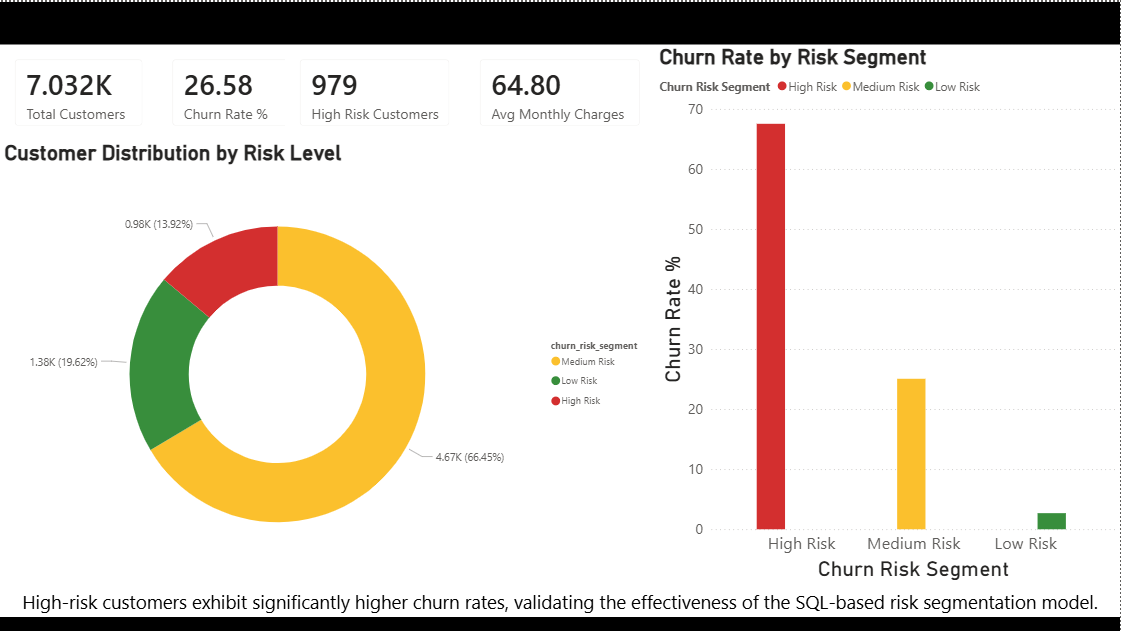

This screenshot's page, from the dashboard's own definition file:
{"tool":"powerbi","page":{"name":"Overview","canvas":[1280,720],"ordinal":0},"visuals":[{"type":"cardVisual","fields":{"Data":["Count(churn_risk_model.customerID)"]},"box":[0,48.6,180,110],"z":0},{"type":"cardVisual","fields":{"Data":["churn_risk_model.Churn Rate %"]},"box":[180,48.6,178.6,110],"z":1000},{"type":"cardVisual","fields":{"Data":["churn_risk_model.High Risk Customers"]},"box":[325.7,48.6,205.7,110],"z":2000},{"type":"cardVisual","fields":{"Data":["churn_risk_model.Avg Monthly Charges"]},"box":[531.4,48.6,217.1,110],"z":3000},{"type":"clusteredColumnChart","title":"Churn Rate by Risk Segment","fields":{"Category":["churn_risk_model.churn_risk_segment"],"Y":["churn_risk_model.Churn Rate %"],"Series":["churn_risk_model.churn_risk_segment"]},"box":[748.6,48.6,531.4,617.1],"z":4000},{"type":"donutChart","title":"Customer Distribution by Risk Level","fields":{"Category":["churn_risk_model.churn_risk_segment"],"Y":["CountNonNull(churn_risk_model.customerID)"]},"box":[0,158.6,748.6,507.1],"z":5000},{"type":"textbox","box":[0,665.7,1280,54.3],"z":6000},{"type":"shape","box":[0,0,1280,48.6],"z":7000},{"type":"shape","box":[0,702.9,1280,17.1],"z":8000}]}

Visuals, with their boxes in screenshot pixels (x1, y1, x2, y2), scaled from the page's 1280x720 canvas onto the 1121x631 screenshot:
cardVisual - Count(churn_risk_model.customerID): region(0, 43, 158, 139)
cardVisual - churn_risk_model.Churn Rate %: region(158, 43, 314, 139)
cardVisual - churn_risk_model.High Risk Customers: region(285, 43, 465, 139)
cardVisual - churn_risk_model.Avg Monthly Charges: region(465, 43, 656, 139)
"Churn Rate by Risk Segment" clusteredColumnChart: region(656, 43, 1120, 583)
"Customer Distribution by Risk Level" donutChart: region(0, 139, 656, 583)
textbox: region(0, 583, 1120, 630)
shape: region(0, 0, 1120, 43)
shape: region(0, 616, 1120, 630)
